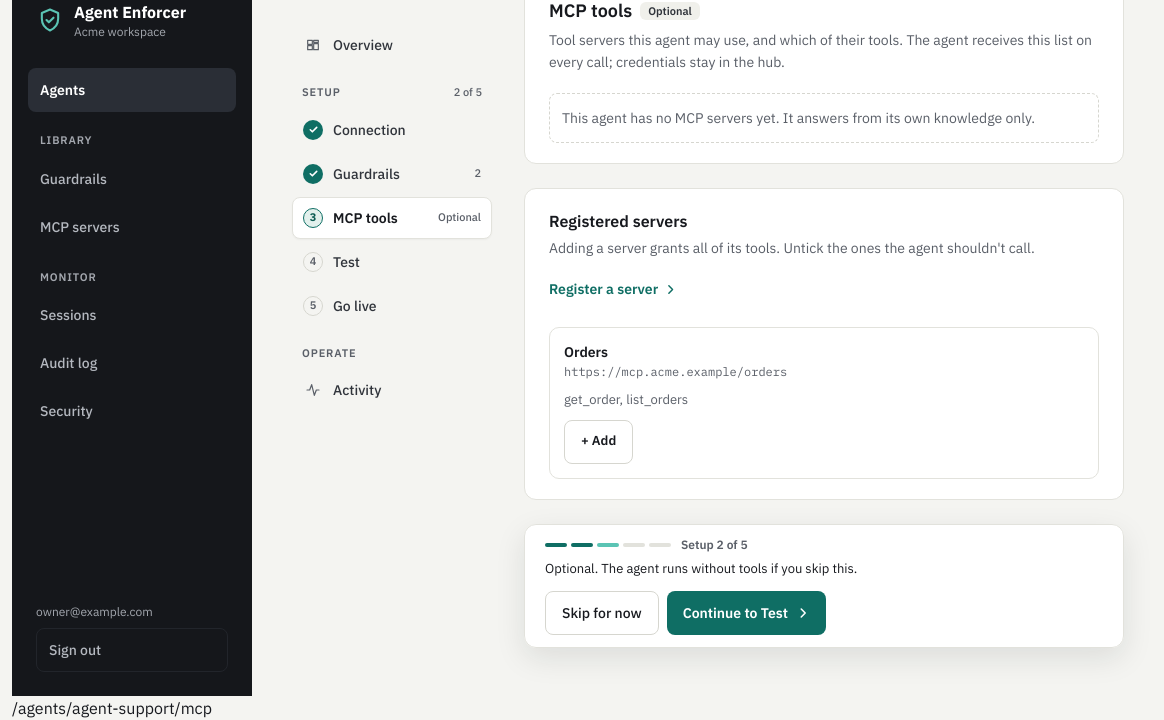
Test case: Agent MCP tools step (FR-17) › adds a registered server with all of its tools and completes the step
The width and height of the screenshot is (1164, 720).
(page scrolled)
Expected: the text "This agent has no MCP servers yet." is shown, [562, 109, 1035, 127]
Click the button with aria-label "Add Orders". click: (599, 442)
box: [564, 420, 633, 464]
(page scrolled)
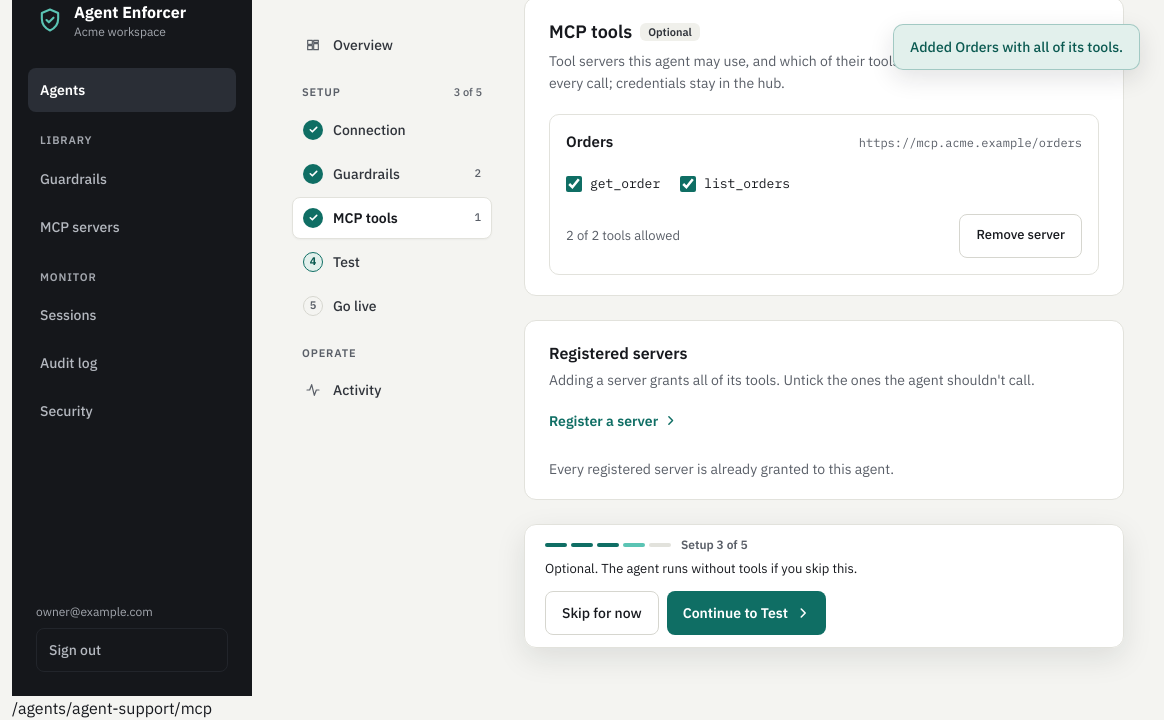
Now the checkbox labelled "get_order" is checked, box [566, 176, 582, 192]
Now the checkbox labelled "list_orders" is checked, box [680, 176, 696, 192]
Now the text "Every registered server is already granted to this agent." is shown, box [549, 460, 894, 478]
